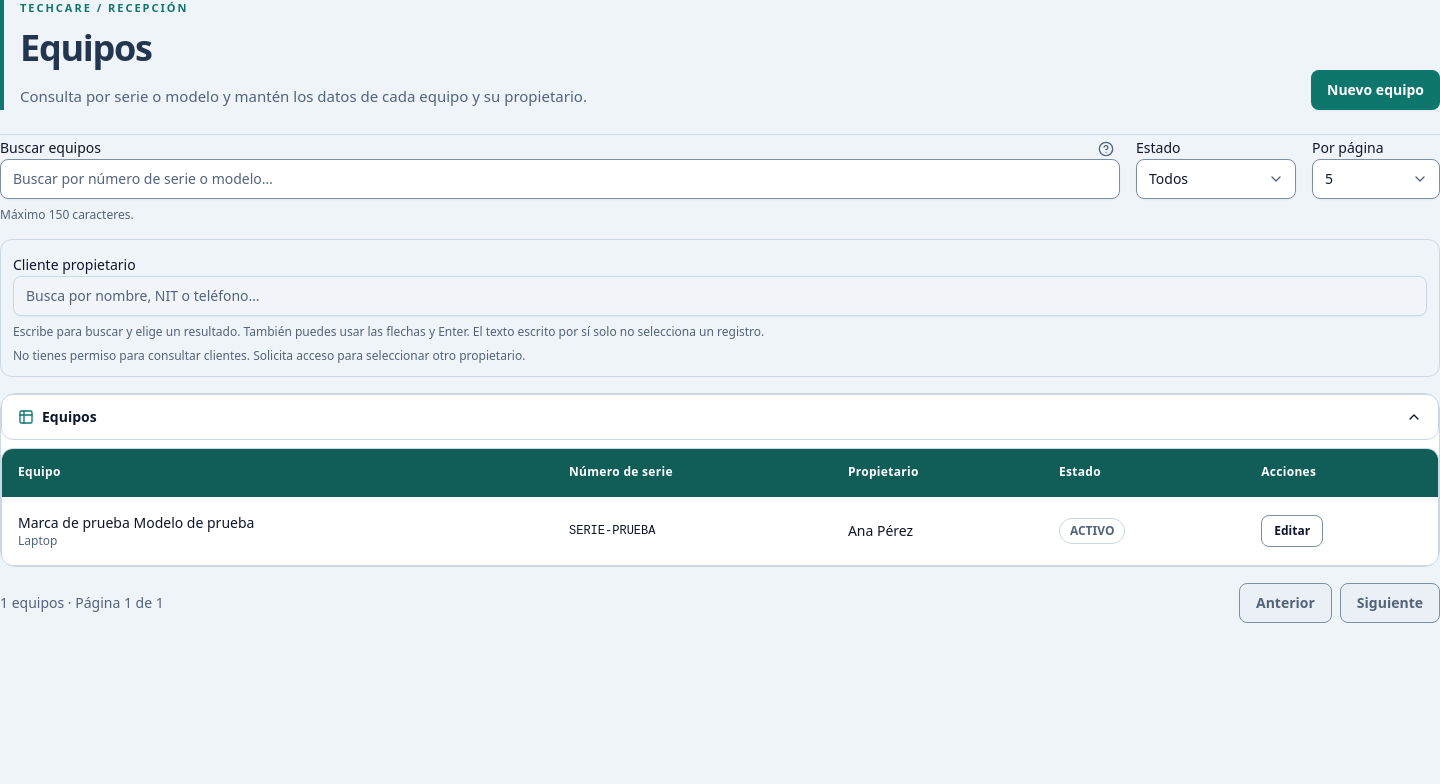
Test: Equipos operativo › PATCH guarda estado sin transferir propietario si no puede consultar clientes
Click the button with aria-label "Editar SERIE-PRUEBA": (1292, 531) [1261,515,1323,547]
(page scrolled)
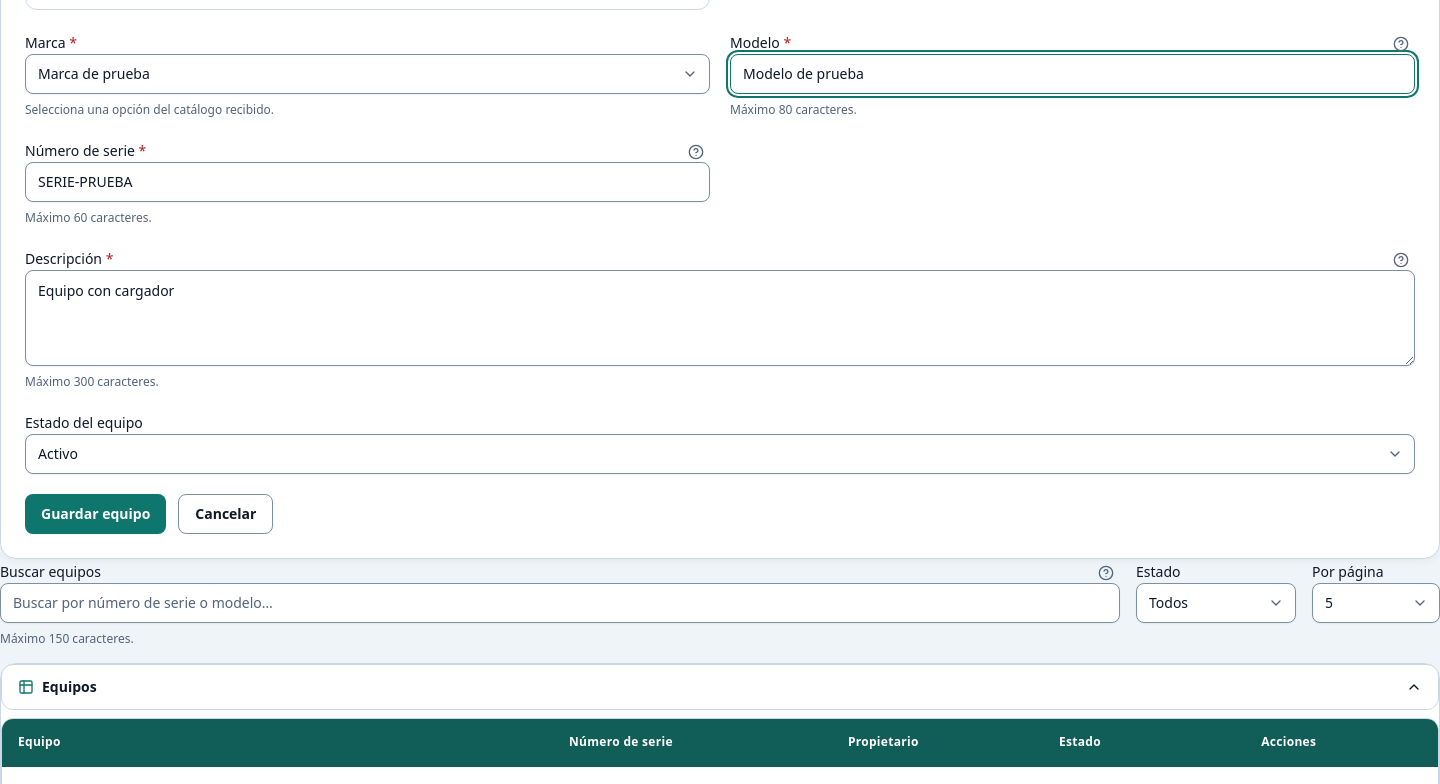
Select "Baja" in the dropdown labelled "Estado del equipo": (720, 454) [25,434,1415,474]
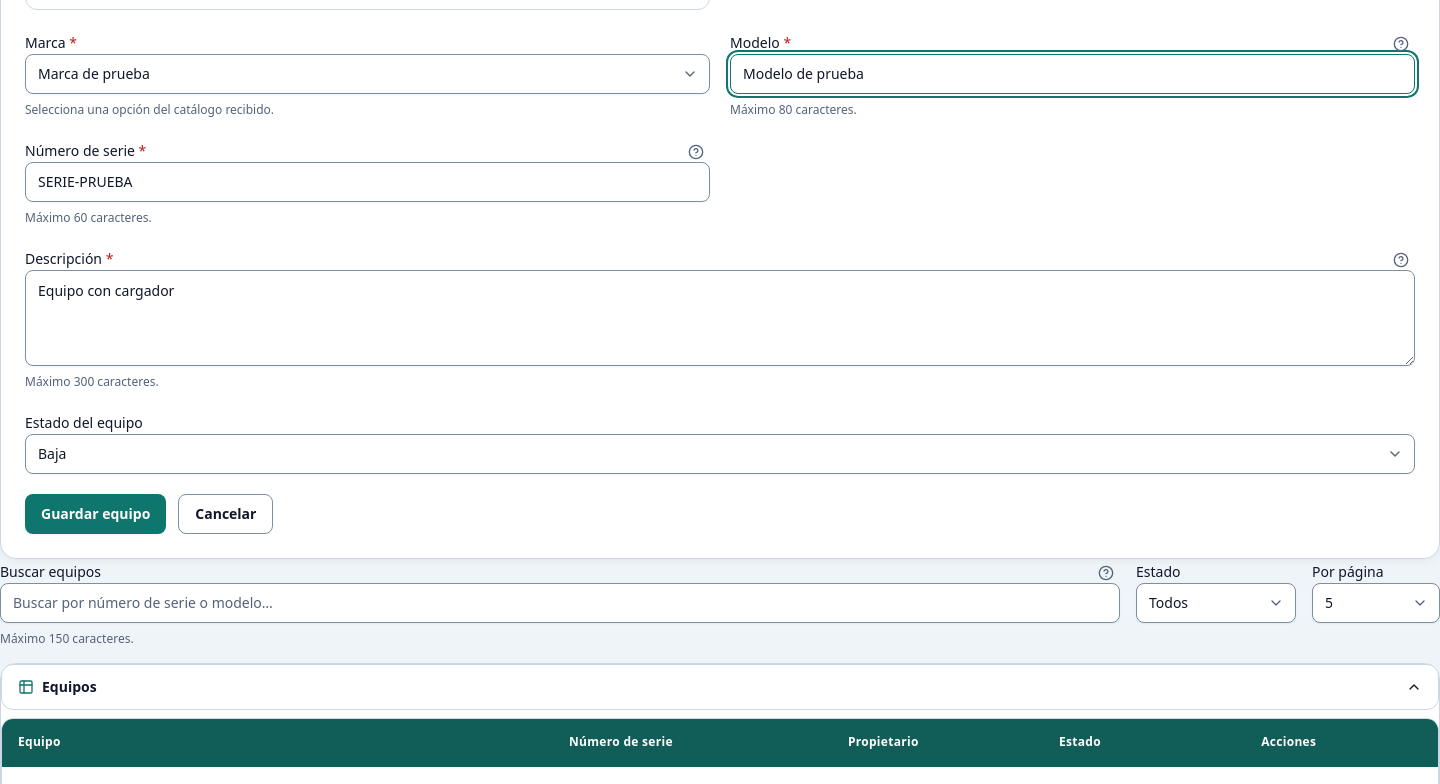
Replace the text in the field labelled "Modelo *" with "Actualizado": (1072, 74) [730,54,1415,94]
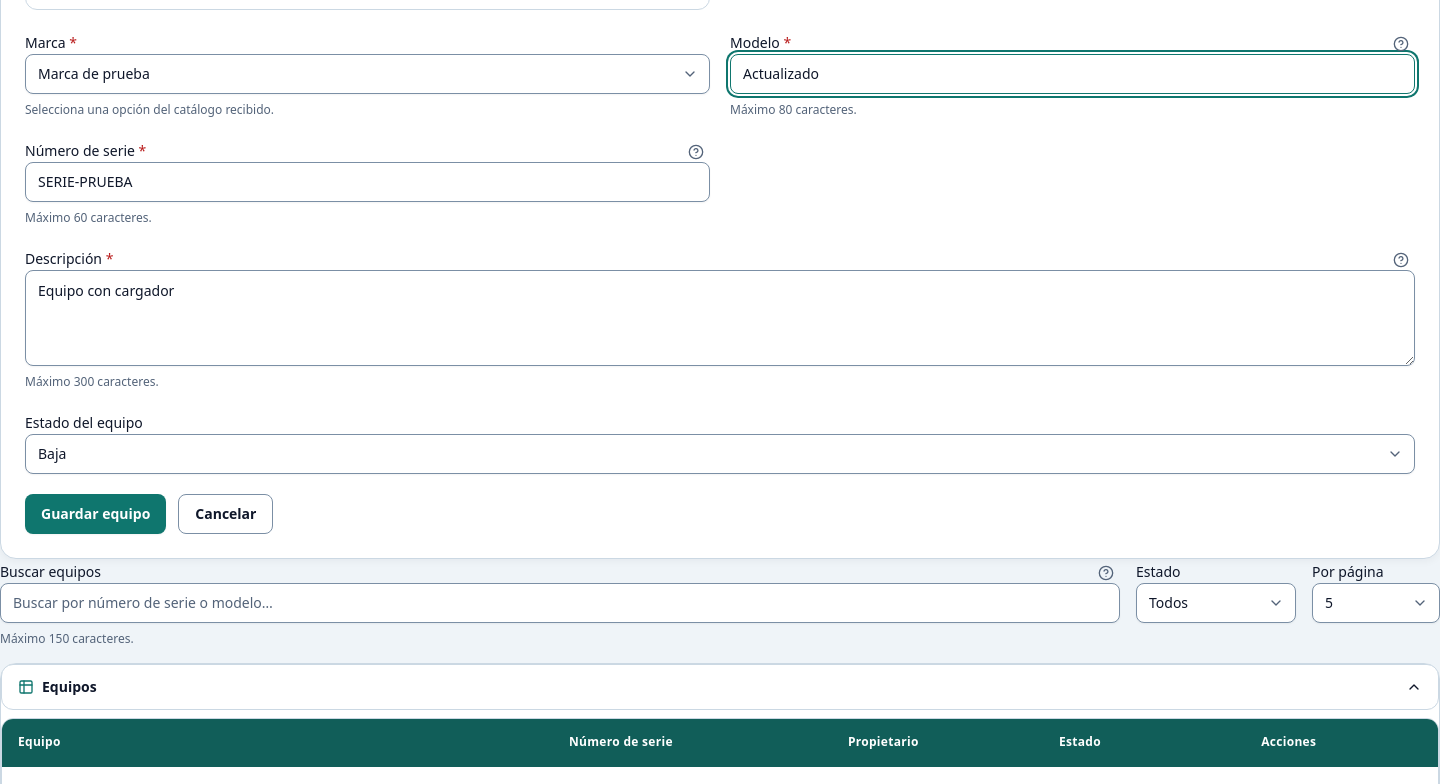
Click the button "Guardar equipo": (96, 514) [25,494,166,534]
(page scrolled)
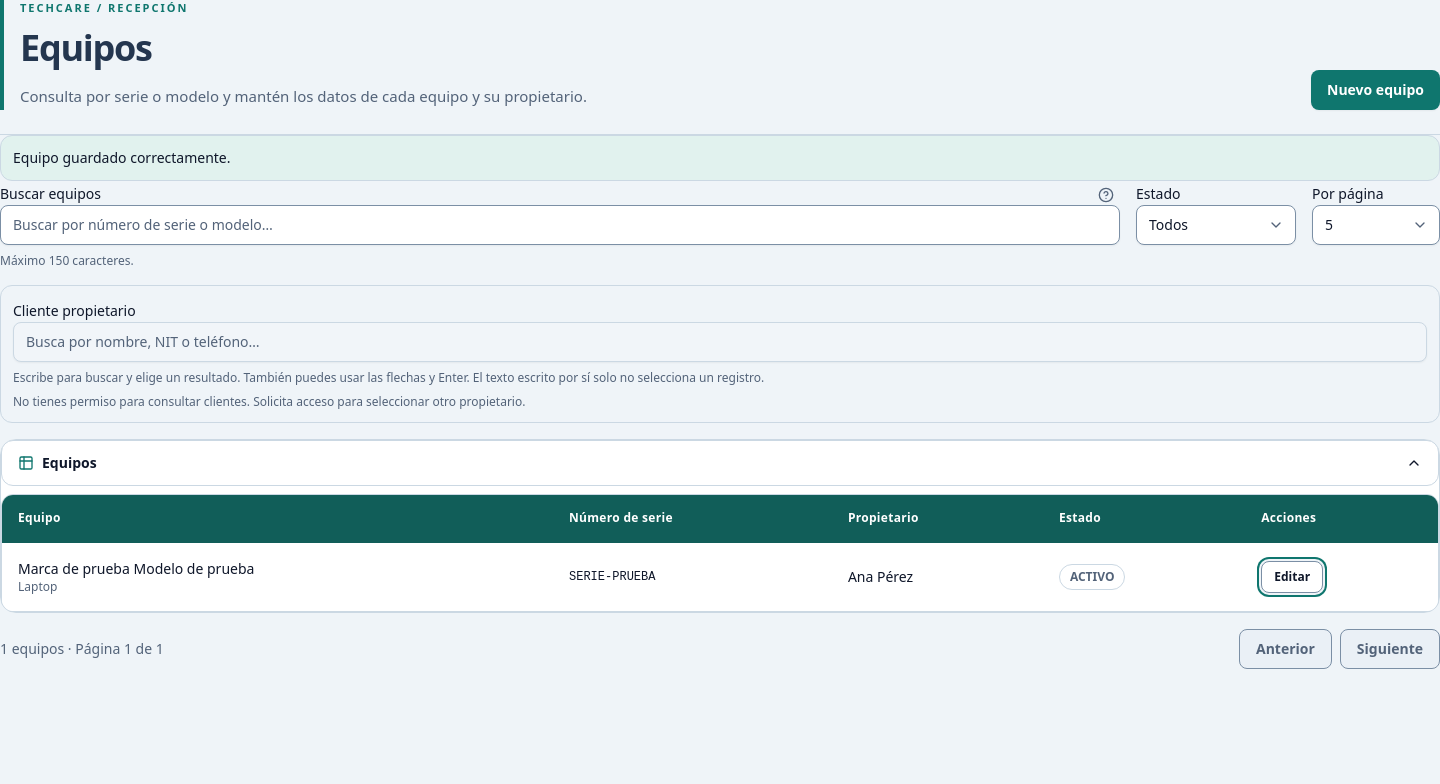
Check: the text "Equipo guardado correctamente." is shown, box [0,134,1439,180]
